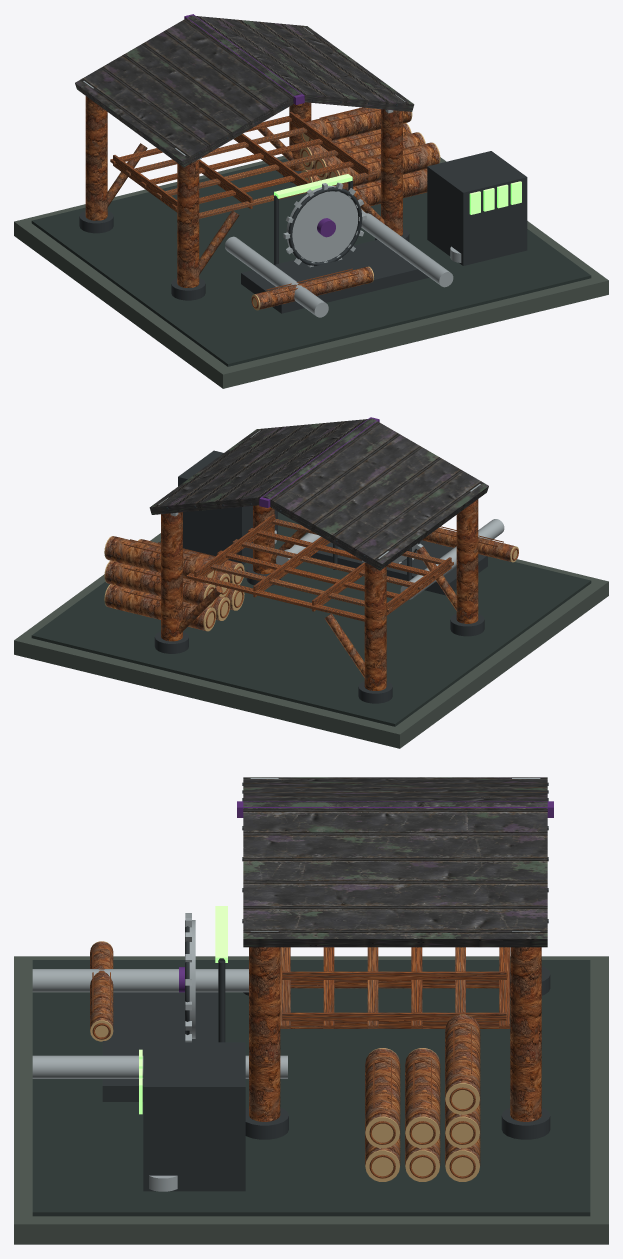
Rendered from timberline_l02-2.glb.
3 views of the same model, one above another, from view 1: azimuth 30°, elevation 25°; view 2: azimuth 150°, elevation 25°; view 3: azimuth 270°, elevation 25° (orthographic). The views are drawn at different scales.
Parts seen in each view (by area): view 1: timberline_l02, stone_yard_base, hydraulic_sorter, saw_carriage, circular_saw_blade, saw_safety_light; view 2: timberline_l02, stone_yard_base, hydraulic_sorter, saw_carriage; view 3: timberline_l02, stone_yard_base, hydraulic_sorter, saw_carriage, roof_spine, saw_safety_light, circular_saw_blade.
Part boxes in pixels (x1,y1,x2,y2): timberline_l02: [31, 15, 591, 366]; stone_yard_base: [14, 156, 608, 388]; hydraulic_sorter: [427, 151, 527, 265]; saw_carriage: [241, 239, 429, 313]; circular_saw_blade: [286, 185, 358, 262]; saw_safety_light: [274, 174, 352, 198]; timberline_l02: [31, 418, 591, 726]; stone_yard_base: [14, 533, 608, 748]; hydraulic_sorter: [178, 450, 277, 564]; saw_carriage: [310, 540, 487, 595]; timberline_l02: [32, 777, 590, 1216]; stone_yard_base: [14, 956, 608, 1244]; hydraulic_sorter: [143, 1042, 245, 1191]; saw_carriage: [102, 992, 217, 1101]; roof_spine: [237, 801, 553, 817]; saw_safety_light: [215, 906, 227, 962]; circular_saw_blade: [189, 920, 195, 1038].
Bounding box in the file's own units: 6.5 × 3.19 × 6.1.
Materials: 10 (3 with a texture image).
